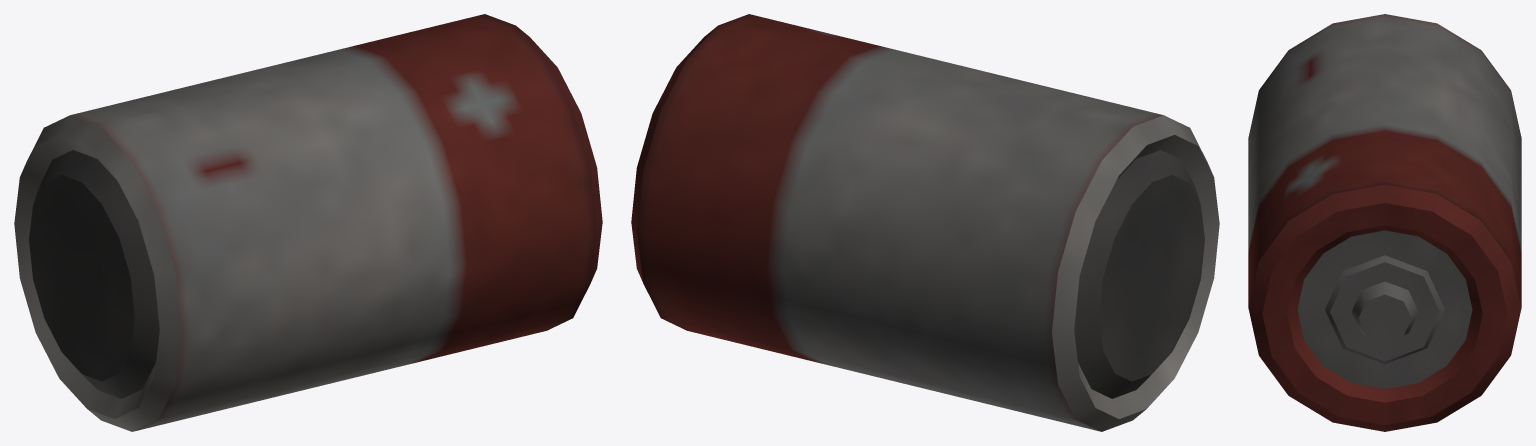
Rendered from battery_mp_2_1.obj.
The picture shows the model from 3 angles, left to right: view 1: azimuth 30°, elevation 25°; view 2: azimuth 150°, elevation 25°; view 3: azimuth 270°, elevation 25°; orthographic projection. The views are drawn at different scales.
Parts seen in each view (by area): view 1: battery_mp_2_1; view 2: battery_mp_2_1; view 3: battery_mp_2_1.
Boxes of the visible parts, <box> form: battery_mp_2_1: <box>14,14,602,431</box>; battery_mp_2_1: <box>631,14,1219,431</box>; battery_mp_2_1: <box>1248,14,1521,431</box>.
Bounding box in the file's own units: 0.0883 × 0.054 × 0.054.
